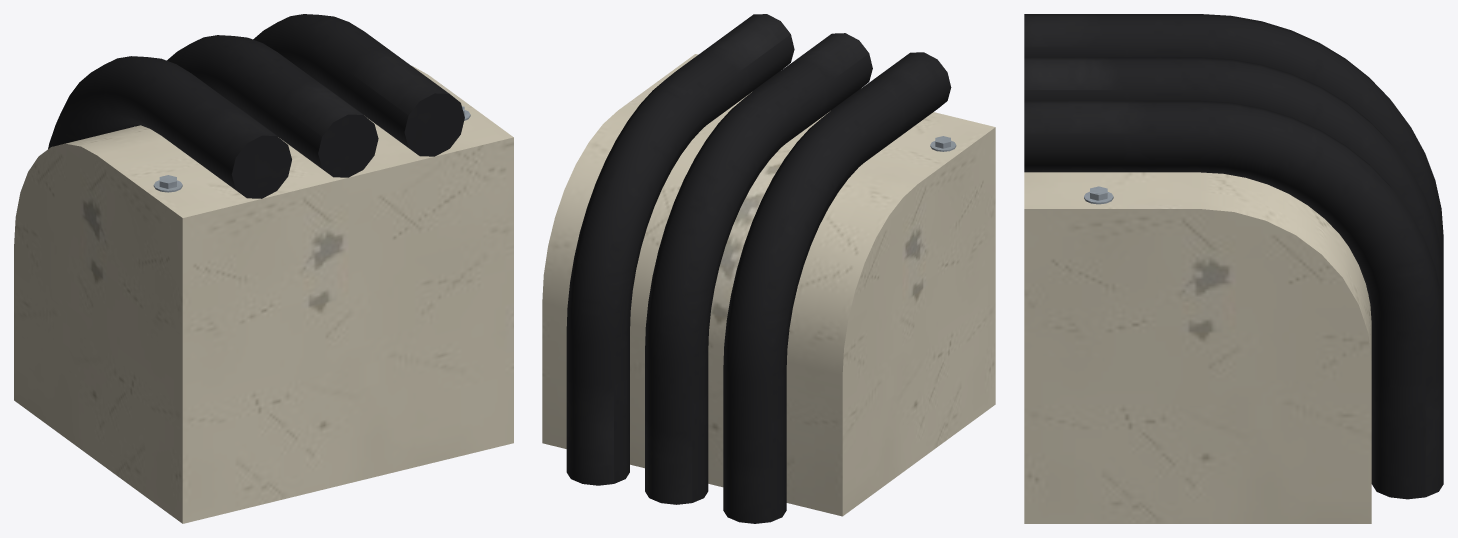
Rendered from wires_convex_bend.glb.
3 views of the same model, side by side, from view 1: azimuth 30°, elevation 25°; view 2: azimuth 150°, elevation 25°; view 3: azimuth 270°, elevation 25° (orthographic). The views are drawn at different scales.
Parts seen in each view (by area): view 1: Body.004; view 2: Body.004; view 3: Body.004.
Boxes of the visible parts, <box> form: Body.004: <box>14,14,513,523</box>; Body.004: <box>542,14,995,523</box>; Body.004: <box>1024,14,1443,523</box>.
Bounding box in the file's own units: 0.23 × 0.245 × 0.245.
Materials: 3 (3 with a texture image).
